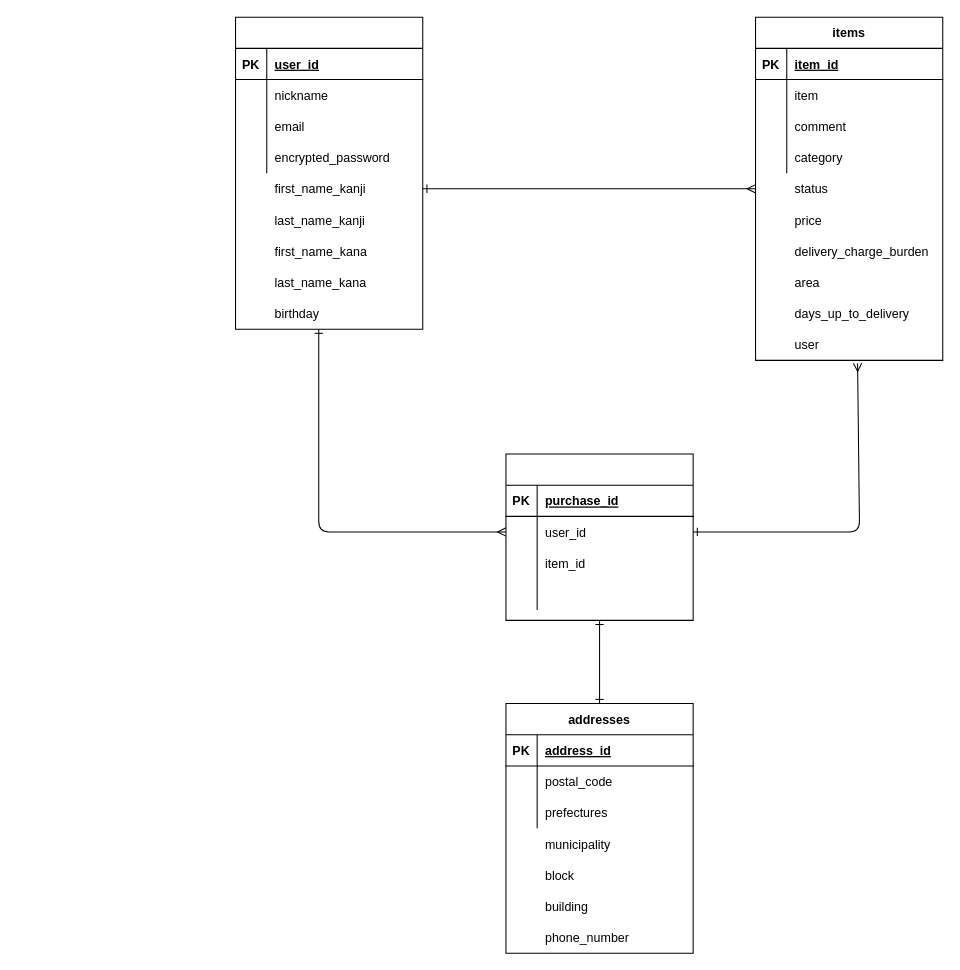
The diagram is 960 pixels wide and 970 high, and some of its shapes have lost their labels. The shapes that lost their labels are listed below. From the top down, each one's box as (x1, y1, x2, y2) in pixels, then its label:
(235, 16, 423, 329): users
(505, 453, 693, 620): purchases
